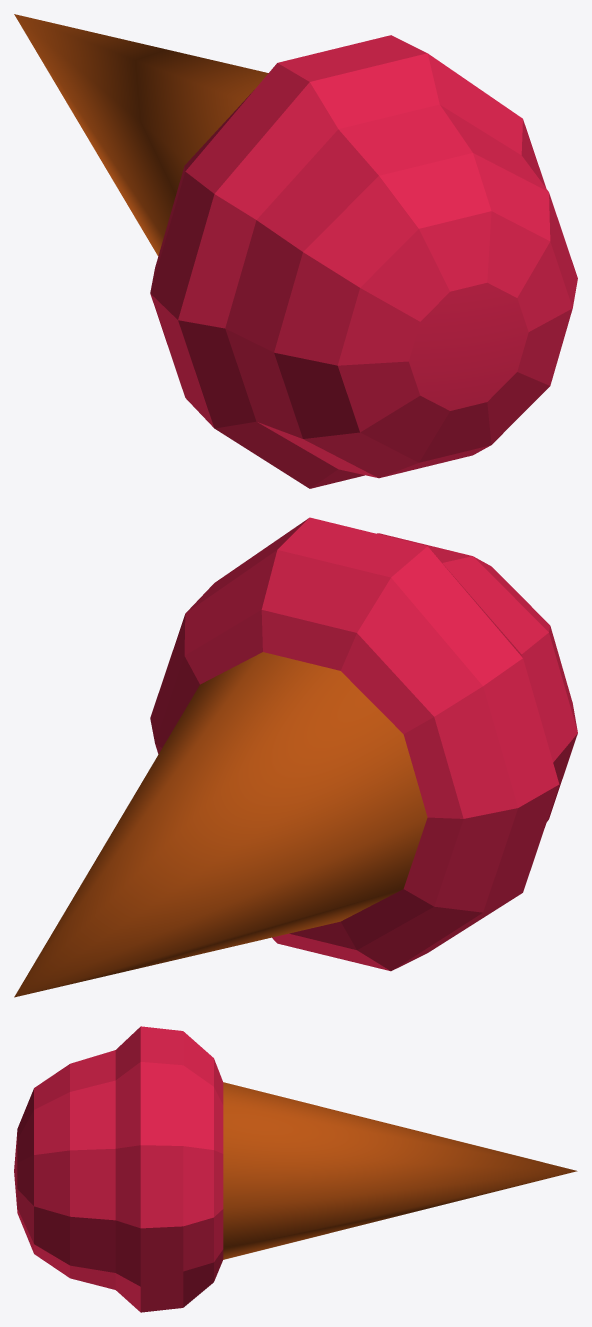
The model's file is IceCream_01.obj.
3 views of the same model, one above another, from view 1: azimuth 30°, elevation 25°; view 2: azimuth 150°, elevation 25°; view 3: azimuth 270°, elevation 25° (orthographic). The views are drawn at different scales.
Visible parts, largest first — view 1: pasted__pCylinder4 group; view 2: pasted__pCylinder4 group; view 3: pasted__pCylinder4 group.
Boxes of the visible parts, x1,y1,x2,y2 form: pasted__pCylinder4 group: (14, 14, 577, 488); pasted__pCylinder4 group: (14, 517, 577, 997); pasted__pCylinder4 group: (14, 1026, 577, 1312).
Bounding box in the file's own units: 36.76 × 37.48 × 76.39.
